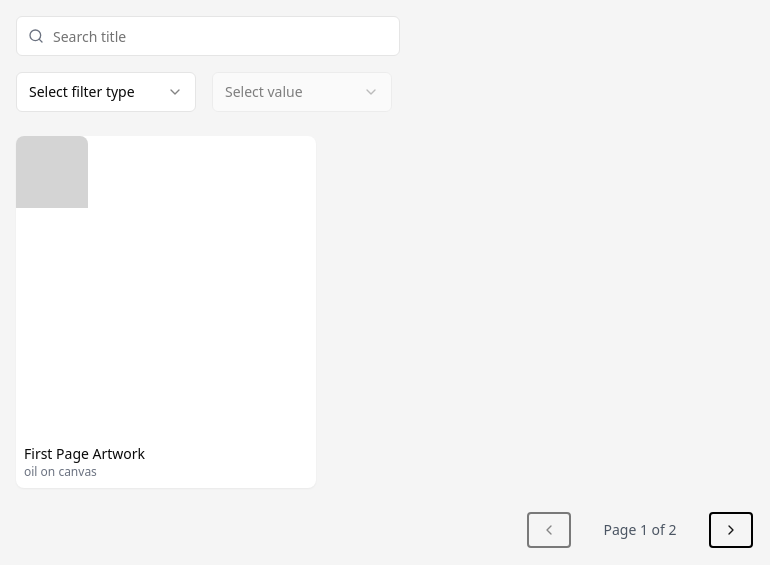
Test: ReadArtworkList pagination, filters, and search › fetches admin artwork pages using route metadata controls
Expected: the heading "First Page Artwork" is shown, [24,444,145,463]
Expected: the text "oil on canvas" is shown, [24,463,97,480]
Click the button named "Next artwork page" at (730, 530), box [708,512,752,548]
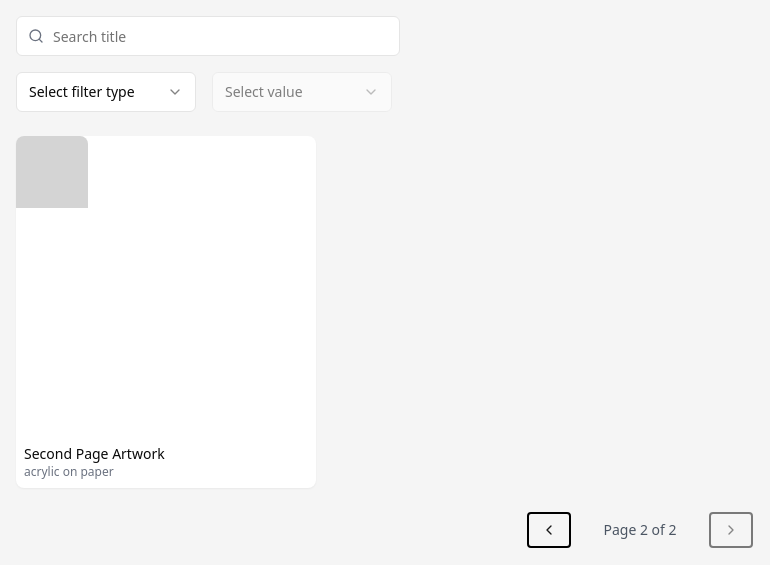
Now the heading "Second Page Artwork" is shown, box [24,444,165,463]
Now the text "Page 2 of 2" is shown, box [604,520,677,540]
